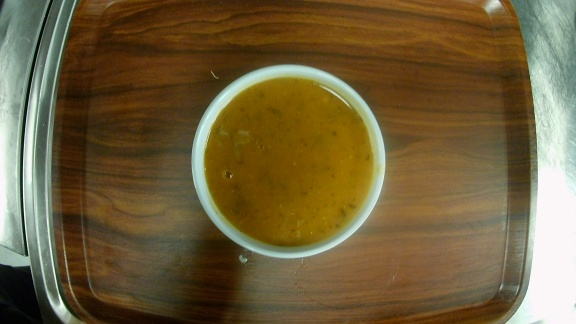ezogelin: (189, 65, 390, 259)
